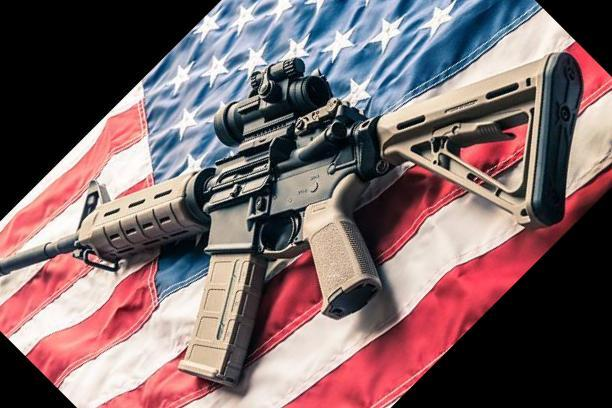larga: (0, 51, 585, 389)
